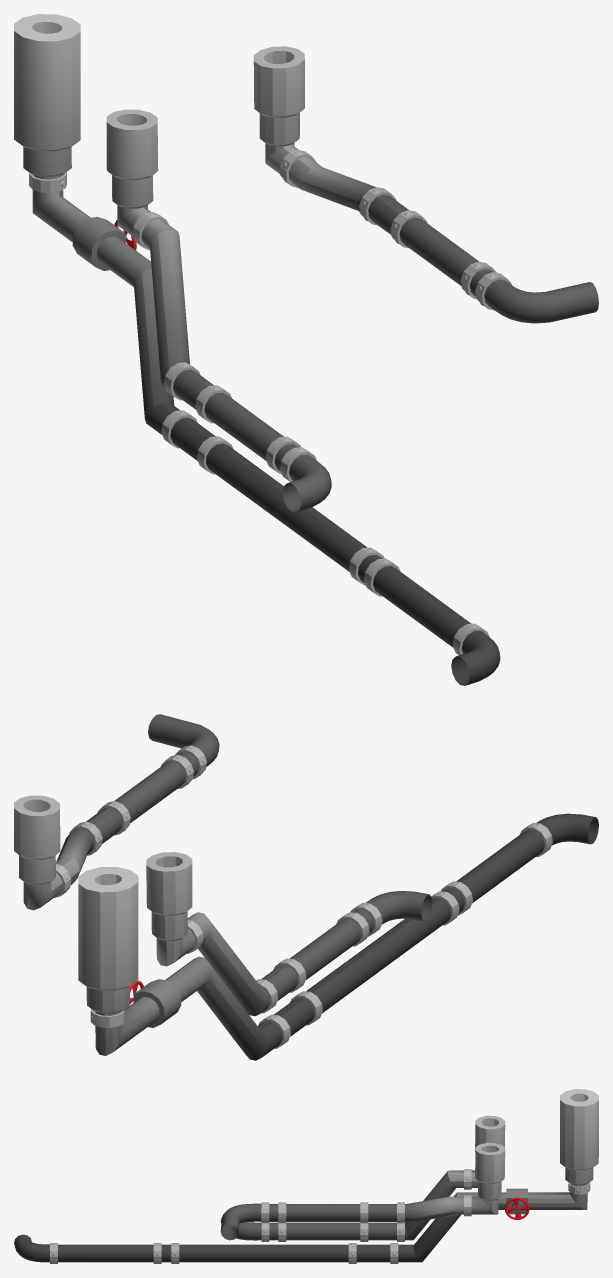
The model's file is Pipes.FBX.
3 renders of one model, top to bottom at view 1: azimuth 30°, elevation 25°; view 2: azimuth 150°, elevation 25°; view 3: azimuth 270°, elevation 25°, orthographic. The views are drawn at different scales.
Parts seen in each view (by area): view 1: Walls, Pipe2, Pipe; view 2: Walls, Pipe2, Pipe; view 3: Walls, Pipe, Pipe2.
Boxes of the visible parts, x1=… form: Walls: x1=14, y1=14, x2=500, y2=685; Pipe2: x1=106, y1=109, x2=331, y2=512; Pipe: x1=253, y1=46, x2=598, y2=323; Walls: x1=78, y1=813, x2=598, y2=1060; Pipe2: x1=146, y1=852, x2=432, y2=1016; Pipe: x1=14, y1=714, x2=219, y2=910; Walls: x1=14, y1=1089, x2=598, y2=1263; Pipe: x1=220, y1=1143, x2=505, y2=1240; Pipe2: x1=220, y1=1115, x2=505, y2=1241.
Bounding box in the file's own units: 699 × 633 × 1941.
Materials: 1 (1 with a texture image).
